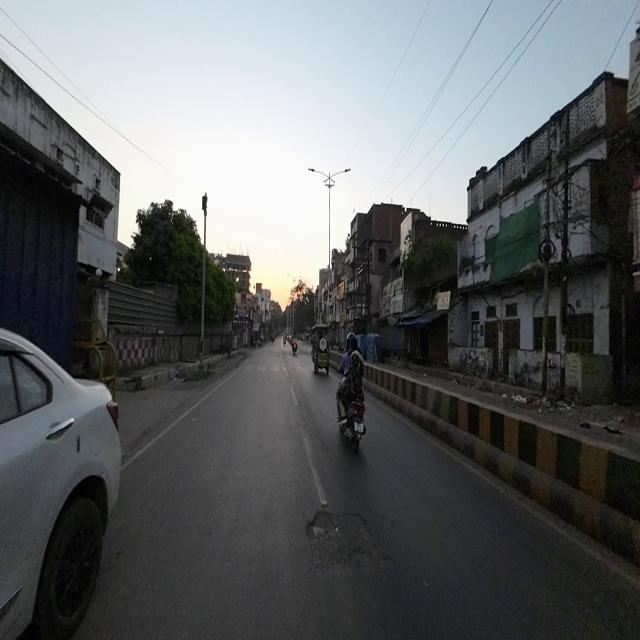Garbage: (502, 387, 570, 409), (580, 414, 626, 437)
